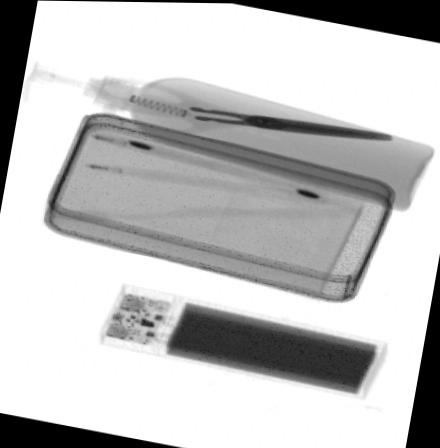Powerbank: (93, 280, 390, 400)
Scissors: (73, 72, 397, 139)
